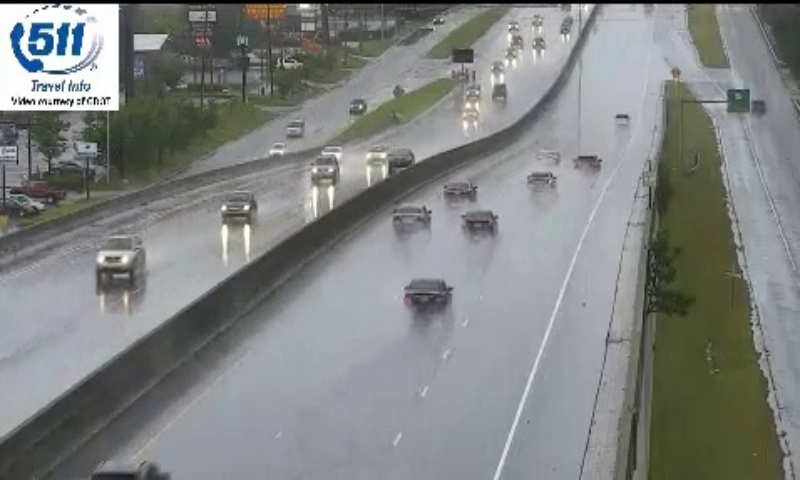car: (404, 278, 451, 313), (393, 203, 430, 234), (461, 209, 498, 240), (443, 180, 475, 203), (527, 171, 555, 194)
